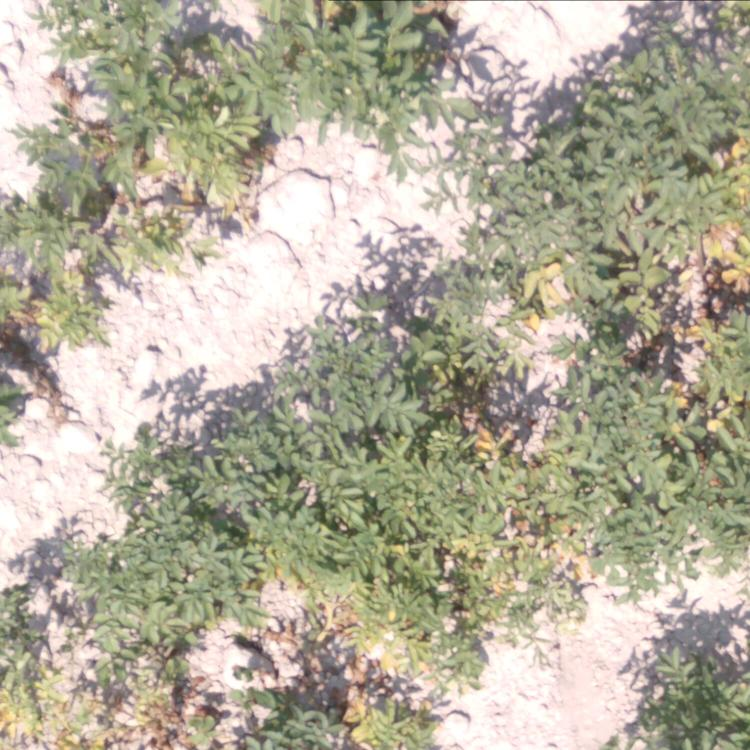healthy: (263, 324, 386, 557), (61, 460, 230, 628), (253, 7, 436, 144), (613, 612, 747, 746), (506, 147, 678, 247), (80, 3, 230, 115), (598, 47, 750, 131), (571, 407, 658, 547)
stressed: (245, 570, 508, 745), (424, 262, 561, 557), (4, 646, 201, 749), (1, 223, 146, 362), (585, 261, 738, 372), (64, 128, 248, 217), (672, 392, 744, 523), (689, 131, 743, 250)
